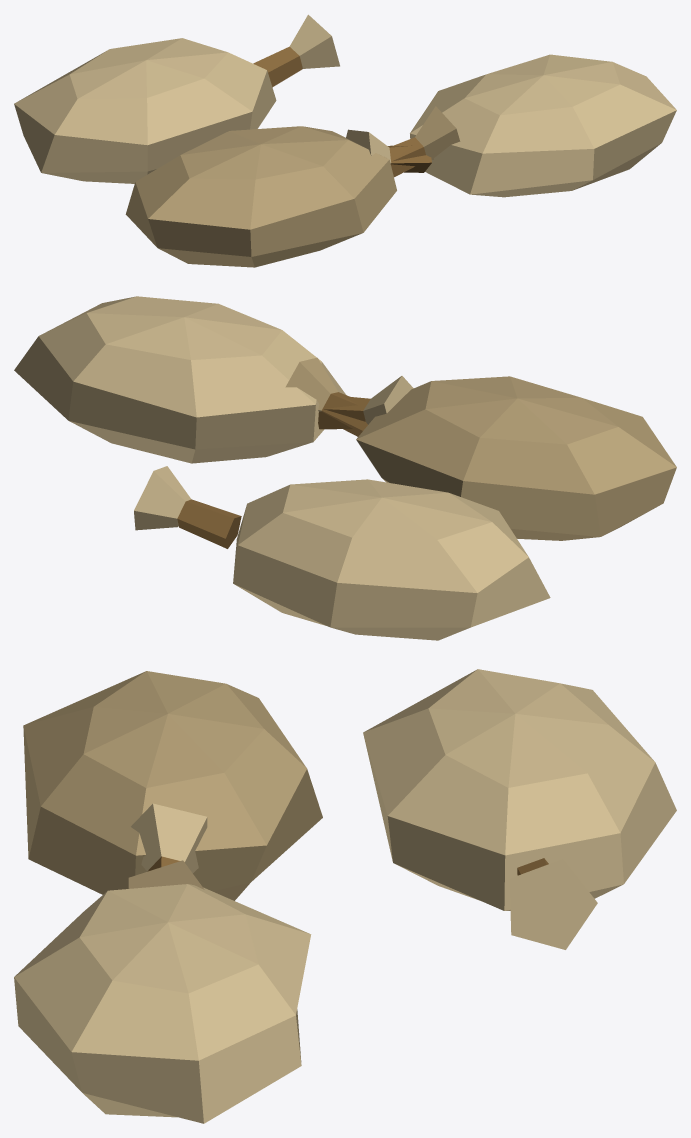
File: pile_sacks_1.glb
The picture shows the model from 3 angles, top to bottom: view 1: azimuth 30°, elevation 25°; view 2: azimuth 150°, elevation 25°; view 3: azimuth 270°, elevation 25°; orthographic projection. The views are drawn at different scales.
Visible parts, largest first — view 1: pile_sacks_1; view 2: pile_sacks_1; view 3: pile_sacks_1.
Boxes of the visible parts, x1,y1,x2,y2 form: pile_sacks_1: [14, 14, 676, 267]; pile_sacks_1: [14, 296, 676, 640]; pile_sacks_1: [14, 669, 676, 1123].
Size of the model in its own units: 1.35 by 0.251 by 0.9542.
